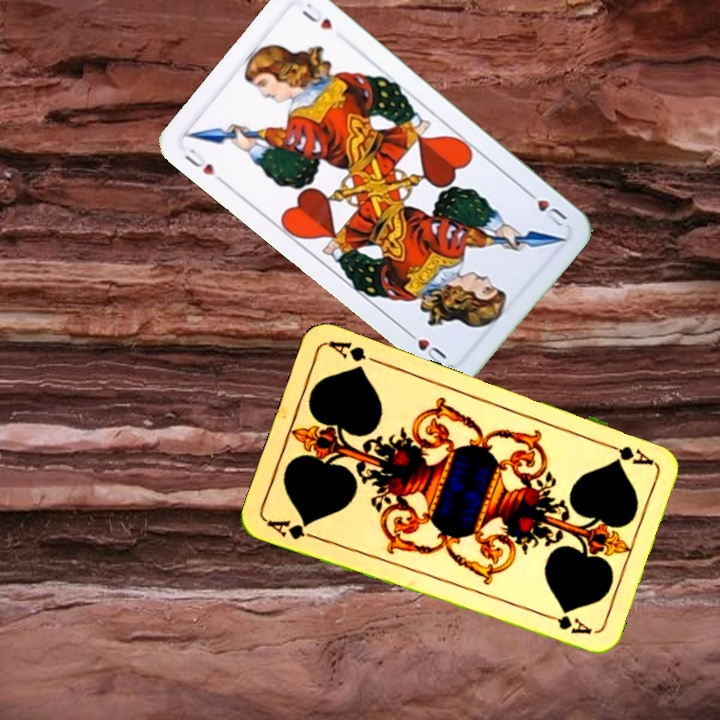GA: (598, 437, 656, 468), (263, 516, 321, 543)
HU: (520, 184, 570, 231), (180, 144, 218, 179)
